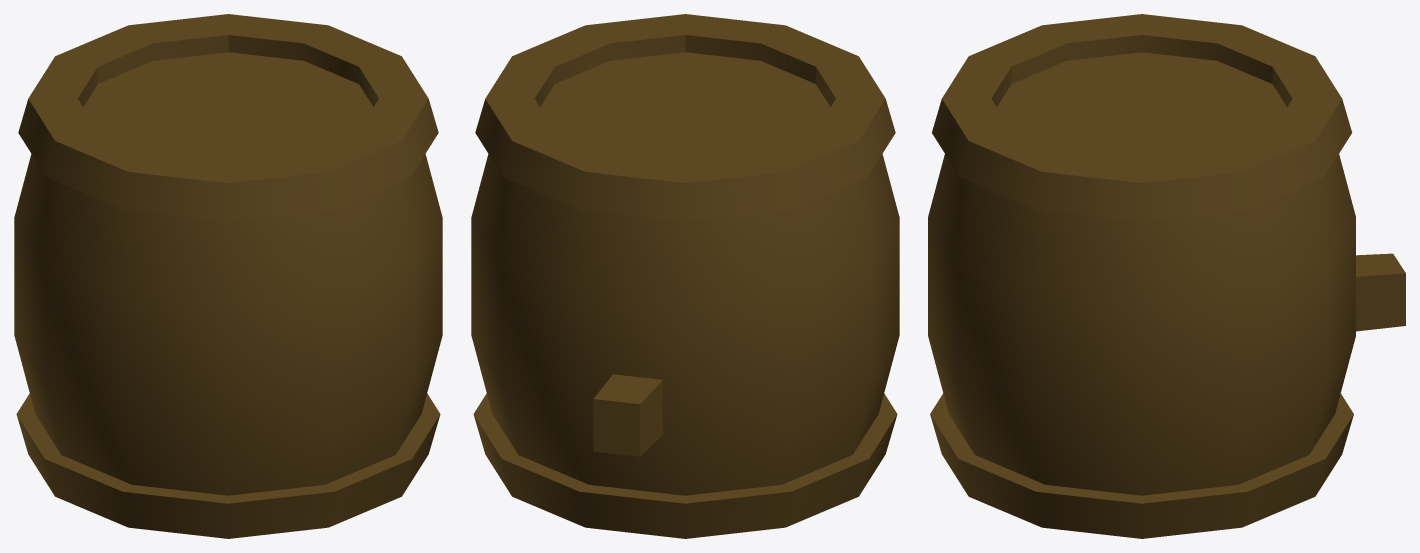
The model's file is duch_hide.fbx.
3 views of the same model, side by side, from view 1: azimuth 30°, elevation 25°; view 2: azimuth 150°, elevation 25°; view 3: azimuth 270°, elevation 25° (orthographic).
Parts seen in each view (by area): view 1: Cylinder; view 2: Cylinder; view 3: Cylinder.
Part boxes in pixels (x1=…): Cylinder: x1=14, y1=14, x2=442, y2=538; Cylinder: x1=471, y1=14, x2=899, y2=538; Cylinder: x1=928, y1=14, x2=1405, y2=538.
Size of the model in its own units: 54.71 by 50.17 by 61.09.
